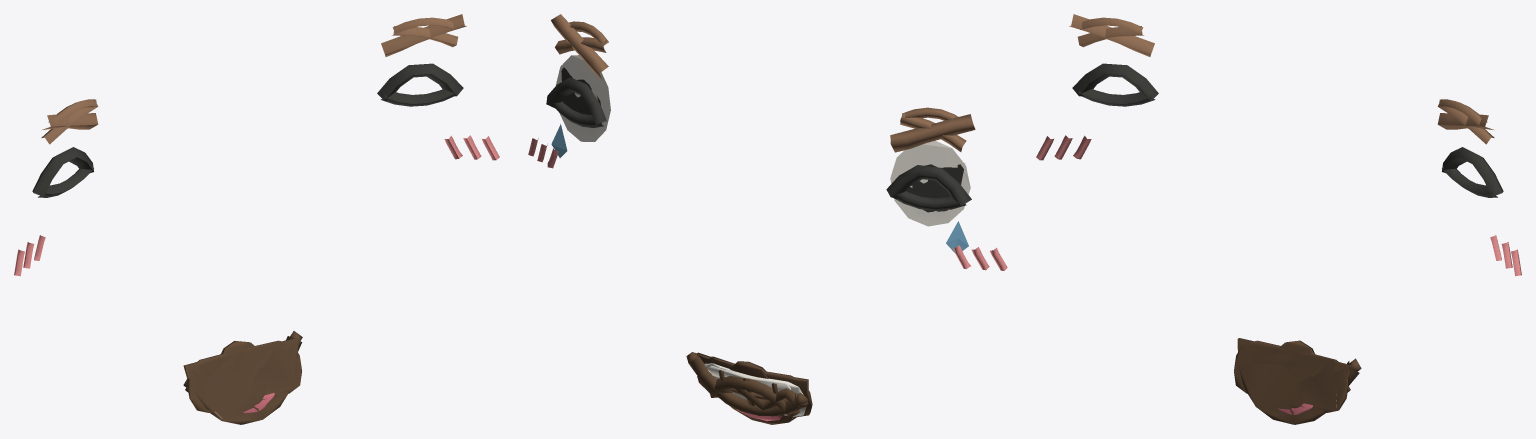
File: npc_face_handeul.glb
3 renders of one model, left to right at view 1: azimuth 30°, elevation 25°; view 2: azimuth 150°, elevation 25°; view 3: azimuth 330°, elevation 25°, orthographic.
Parts seen in each view (by area): view 1: mouth_x_laugh, mouth_x_grit, eyes_x_happy, eyes_x_angry, eyes_x_blink, eyes_x_shy, eyes_x_sad, eyes_x_surprised, mouth_x_o; view 2: eyes_x_surprised, eyes_x_angry, eyes_x_happy, eyes_x_sad, mouth_x_grin, mouth_x_laugh, eyes_x_blink, mouth_x_grit, eyes_x_shy, mouth_x_frown, mouth_x_wavy; view 3: mouth_x_laugh, mouth_x_grit, eyes_x_happy, eyes_x_angry, eyes_x_blink, eyes_x_shy, eyes_x_sad, eyes_x_surprised, mouth_x_o.
Part boxes in pixels (x1,y1,x2,y2): mouth_x_laugh: [183, 338, 298, 424]; mouth_x_grit: [187, 340, 301, 412]; eyes_x_happy: [32, 63, 463, 196]; eyes_x_angry: [41, 14, 466, 130]; eyes_x_blink: [38, 89, 456, 197]; eyes_x_shy: [14, 135, 499, 276]; eyes_x_sad: [41, 26, 458, 144]; eyes_x_surprised: [48, 17, 455, 127]; mouth_x_o: [219, 341, 264, 404]; eyes_x_surprised: [555, 21, 970, 226]; eyes_x_angry: [551, 14, 975, 197]; eyes_x_happy: [546, 77, 971, 206]; eyes_x_sad: [551, 37, 968, 253]; mouth_x_grin: [686, 352, 808, 416]; mouth_x_laugh: [697, 352, 808, 424]; eyes_x_blink: [551, 101, 966, 210]; mouth_x_grit: [704, 356, 812, 416]; eyes_x_shy: [528, 123, 1007, 270]; mouth_x_frown: [710, 376, 799, 416]; mouth_x_wavy: [697, 376, 808, 410]; mouth_x_laugh: [1237, 338, 1350, 424]; mouth_x_grit: [1234, 340, 1348, 412]; eyes_x_happy: [1072, 63, 1503, 196]; eyes_x_angry: [1069, 14, 1494, 130]; eyes_x_blink: [1079, 89, 1497, 197]; eyes_x_shy: [1036, 135, 1521, 276]; eyes_x_sad: [1077, 26, 1494, 144]; eyes_x_surprised: [1080, 17, 1487, 127]; mouth_x_o: [1273, 340, 1314, 408].
Size of the model in its own units: 0.4969 by 0.3543 by 0.0475.
